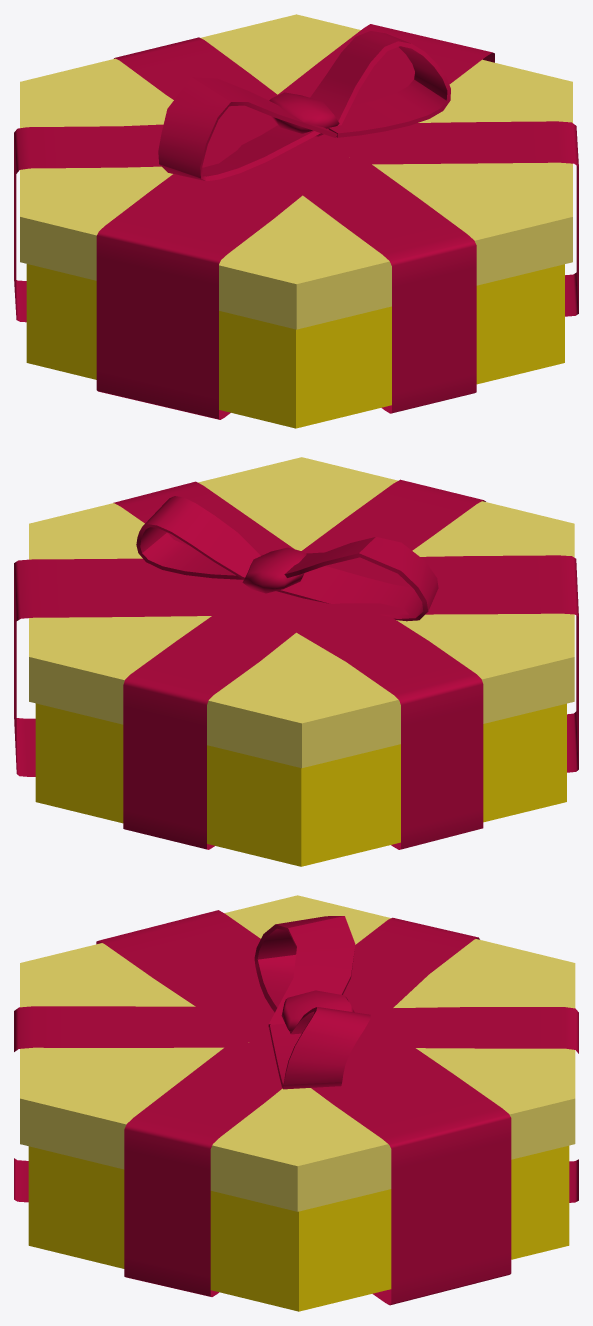
File: hexPresent.fbx
3 renders of one model, top to bottom at view 1: azimuth 30°, elevation 25°; view 2: azimuth 150°, elevation 25°; view 3: azimuth 270°, elevation 25°, orthographic.
Parts seen in each view (by area): view 1: HexPresent; view 2: HexPresent; view 3: HexPresent.
Part boxes in pixels (<box>): HexPresent: <box>14,14,578,428</box>; HexPresent: <box>14,457,578,866</box>; HexPresent: <box>14,895,578,1311</box>.
Size of the model in its own units: 205 by 81.78 by 181.
